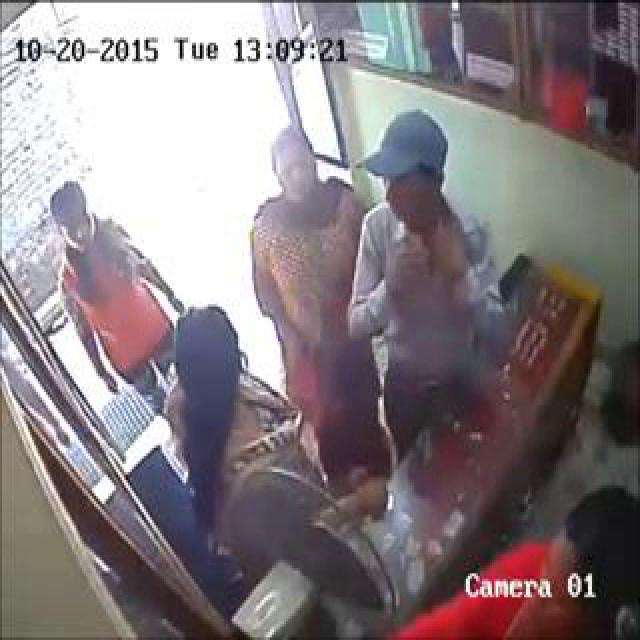shoplifting: (258, 1, 623, 516)
